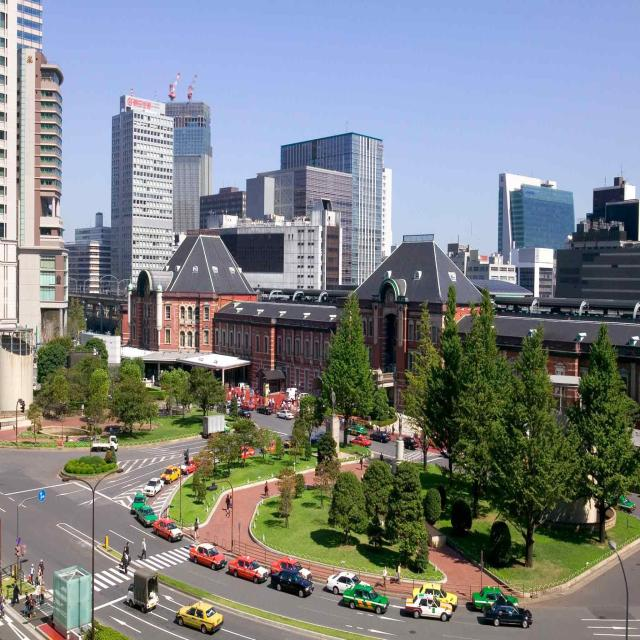body: (223, 381, 311, 411), (340, 415, 390, 435), (426, 589, 441, 608), (108, 424, 134, 434), (11, 580, 20, 607), (22, 590, 30, 617), (28, 593, 35, 620), (27, 563, 35, 586), (289, 564, 299, 582), (38, 559, 45, 583), (41, 581, 48, 603), (35, 581, 41, 605), (121, 546, 127, 570), (141, 537, 147, 560), (194, 517, 200, 540), (37, 565, 43, 587), (382, 564, 388, 586), (396, 560, 401, 584), (126, 542, 131, 565), (0, 598, 5, 620), (507, 605, 517, 616), (264, 480, 269, 500), (124, 551, 128, 575), (204, 548, 215, 556), (165, 522, 175, 530), (225, 494, 230, 509), (359, 454, 363, 471), (246, 561, 254, 569), (366, 590, 372, 600), (0, 589, 4, 602), (89, 435, 95, 442), (379, 452, 383, 462), (229, 495, 233, 504), (392, 424, 395, 435), (188, 461, 192, 466), (170, 469, 174, 474), (154, 482, 158, 486)
